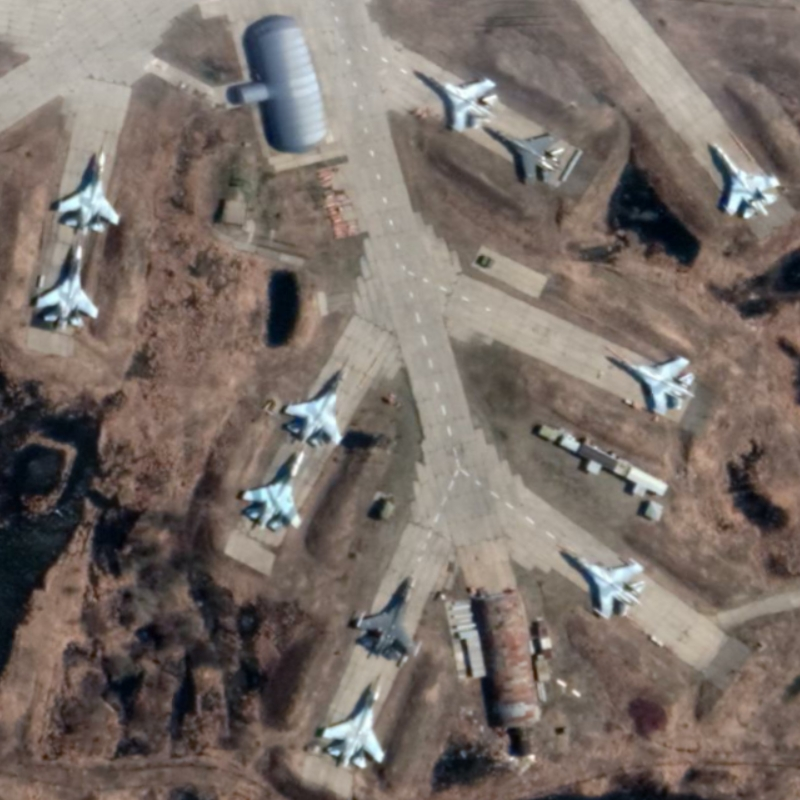A1: (350, 567, 426, 669), (319, 670, 387, 771), (705, 139, 782, 221), (280, 359, 347, 452), (54, 147, 122, 236), (239, 444, 305, 535), (34, 244, 101, 332), (563, 549, 645, 620), (615, 352, 697, 418), (487, 126, 567, 187), (422, 73, 500, 132)
